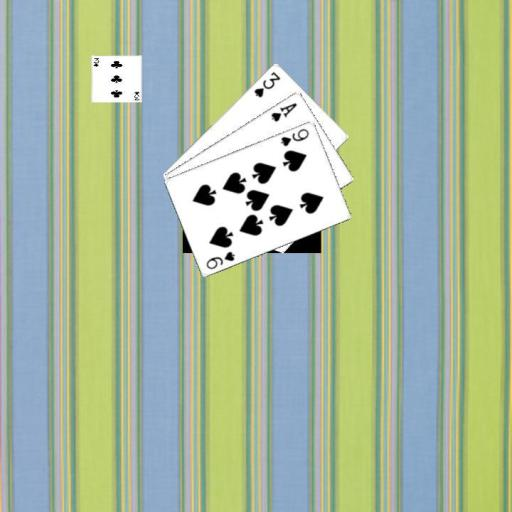3S: (251, 68, 282, 99)
9S: (277, 125, 311, 147), (203, 248, 236, 270)
AS: (268, 100, 299, 123)
